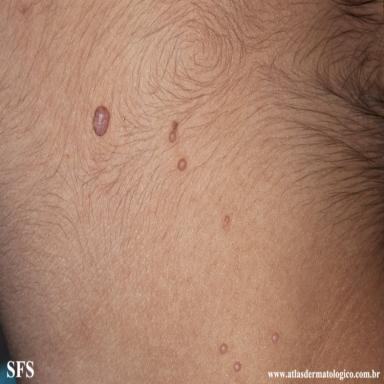Molluscum-Contagiosum: (93, 106, 109, 136), (178, 158, 186, 171), (168, 131, 176, 143), (223, 215, 230, 228), (271, 332, 279, 343), (220, 343, 228, 354), (234, 362, 241, 372)
